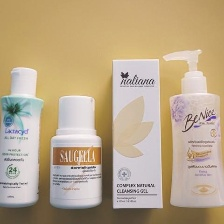book: (106, 55, 165, 211)
cleaning_solution: (158, 47, 224, 210), (47, 93, 104, 211), (0, 64, 46, 210)
